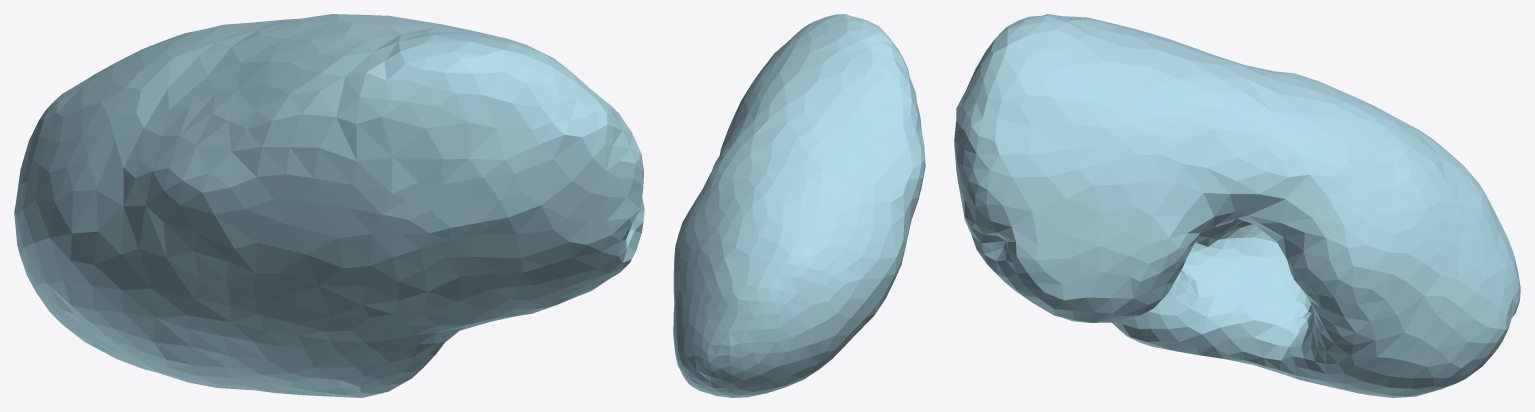
Rendered from rightkidney.obj.
3 views of the same model, side by side, from view 1: azimuth 30°, elevation 25°; view 2: azimuth 150°, elevation 25°; view 3: azimuth 270°, elevation 25° (orthographic). The views are drawn at different scales.
Visible parts, largest first — view 1: grp1; view 2: grp1; view 3: grp1.
Boxes of the visible parts, x1,y1,x2,y2 form: grp1: (14,14,644,397); grp1: (673,14,925,397); grp1: (954,14,1520,397).
Bounding box in the file's own units: 66.05 × 71.61 × 100.
